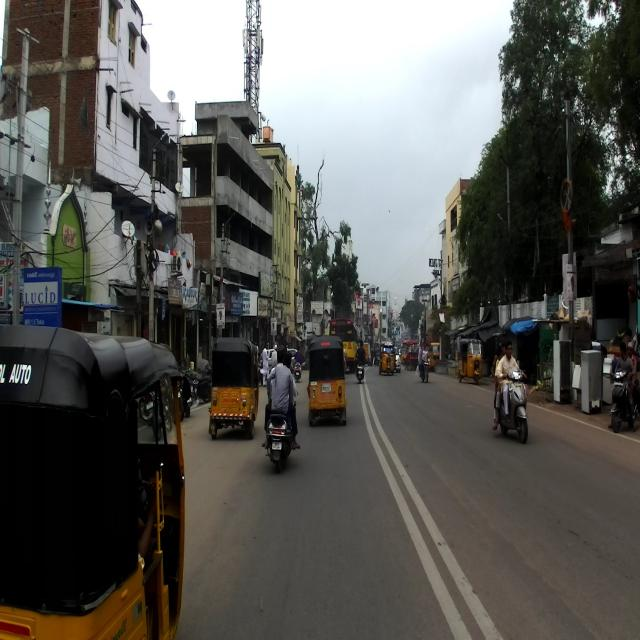autorickshaw: (0, 323, 191, 639), (209, 335, 261, 438)
scooter: (264, 376, 300, 474), (493, 367, 528, 444), (611, 366, 640, 434)
